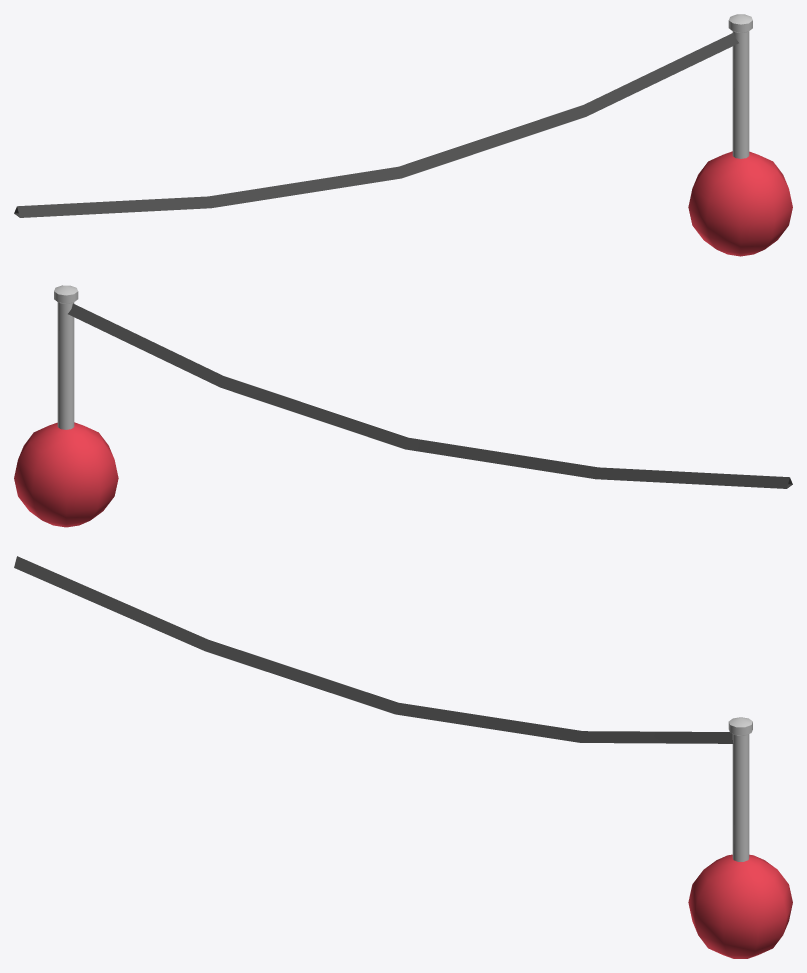
File: Buoy.fbx
The picture shows the model from 3 angles, top to bottom: view 1: azimuth 30°, elevation 25°; view 2: azimuth 150°, elevation 25°; view 3: azimuth 330°, elevation 25°; orthographic projection.
Parts seen in each view (by area): view 1: pCylinder3; view 2: pCylinder3; view 3: pCylinder3.
Part boxes in pixels (left/top/right/bottom): pCylinder3: left=14, top=14, right=792, bottom=256; pCylinder3: left=14, top=285, right=792, bottom=527; pCylinder3: left=14, top=556, right=792, bottom=958.
Size of the model in its own units: 1673 by 491 by 197.
